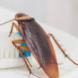cockroach: (14, 12, 60, 78)
